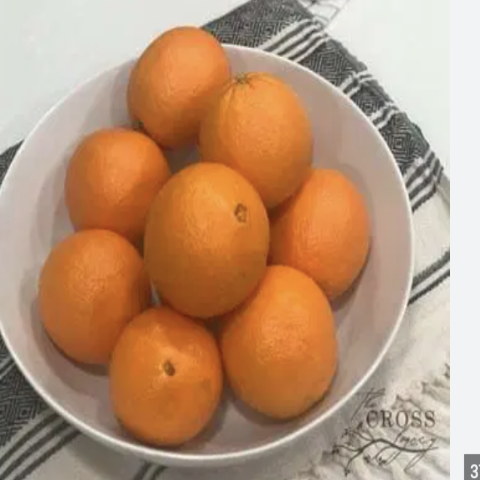orange: (140, 158, 275, 316), (246, 152, 393, 292), (214, 257, 338, 421), (102, 290, 223, 449), (19, 224, 154, 362), (123, 20, 238, 142)
